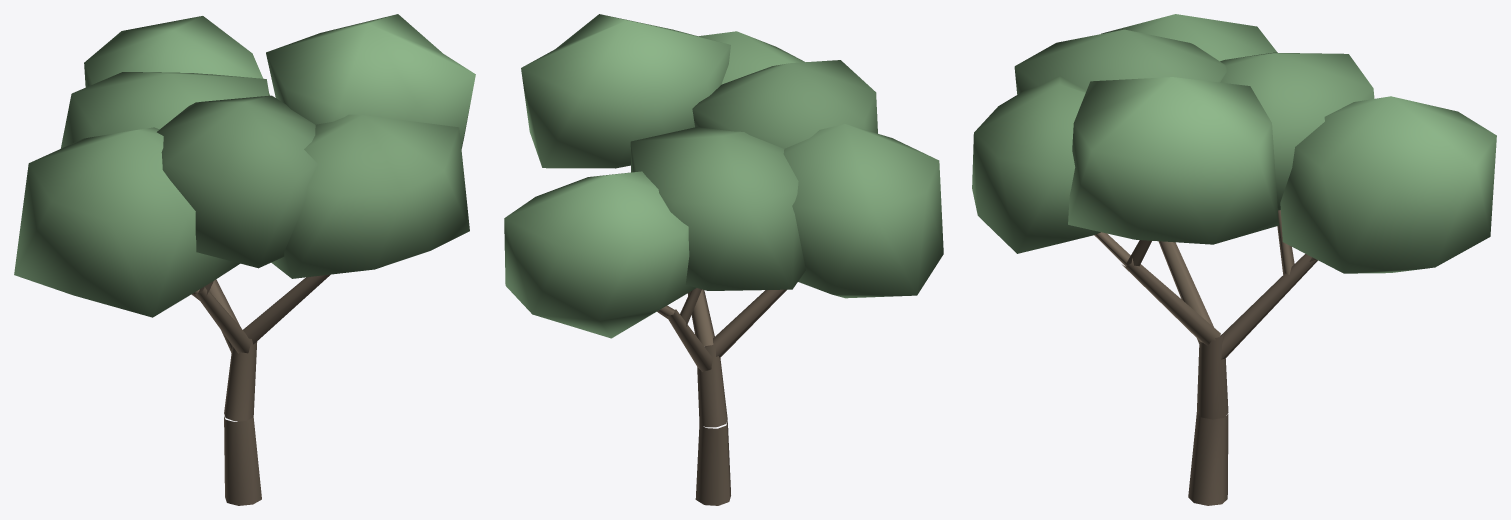
The model's file is tree-clumped.glb.
3 views of the same model, side by side, from view 1: azimuth 30°, elevation 25°; view 2: azimuth 150°, elevation 25°; view 3: azimuth 270°, elevation 25° (orthographic). The views are drawn at different scales.
Parts seen in each view (by area): view 1: tree-clumped; view 2: tree-clumped; view 3: tree-clumped.
Part boxes in pixels (x1,y1,x2,y2): tree-clumped: [14, 14, 475, 505]; tree-clumped: [504, 14, 943, 505]; tree-clumped: [972, 14, 1496, 505].
Size of the model in its own units: 7.67 by 8.23 by 8.22.
